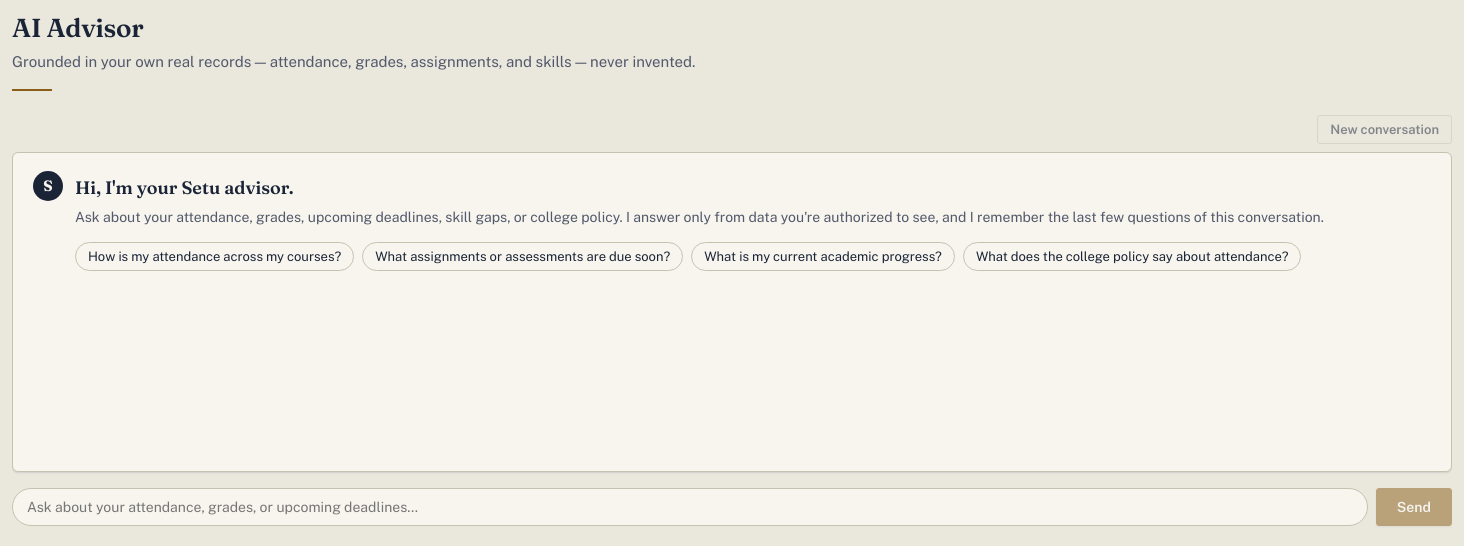
Test: AI advisor chat (spec section 13: forms and errors, live content) › tells the student in words, inside the conversation, when the advisor is unavailable, and lets them try again
Step 1. Type "Hello?" into the field named "Ask the AI Advisor" → (690, 507), box [12,488,1368,526]
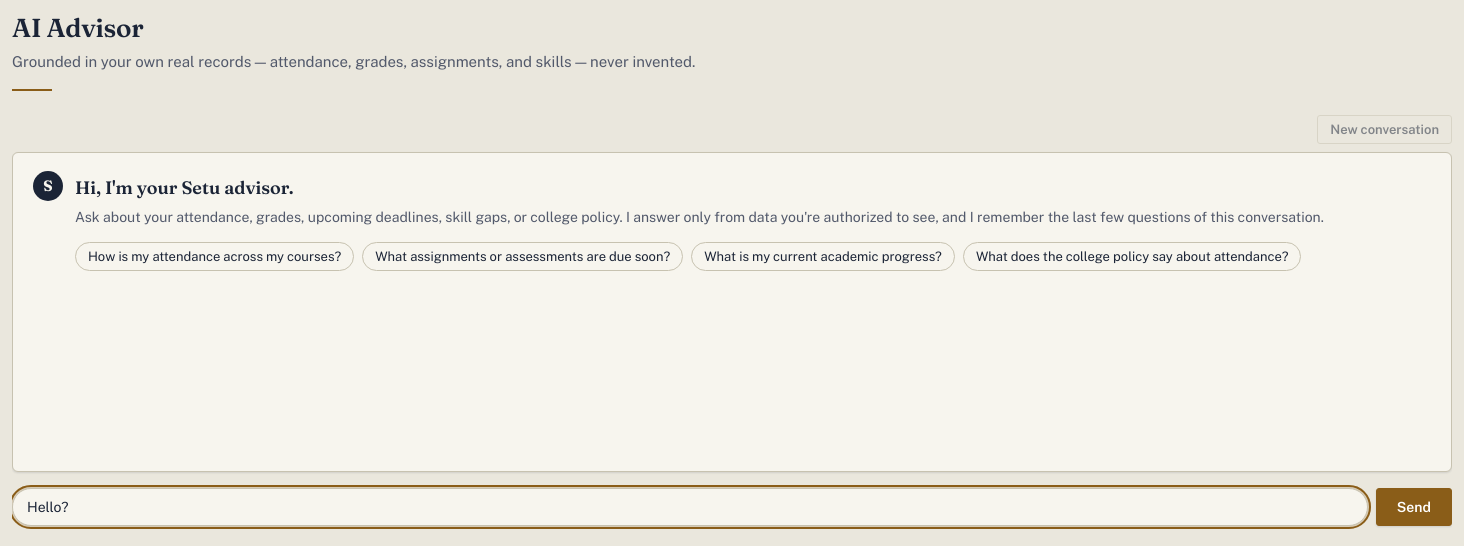
Step 2. Click the button "Send" → (1414, 507), box [1376,488,1452,526]
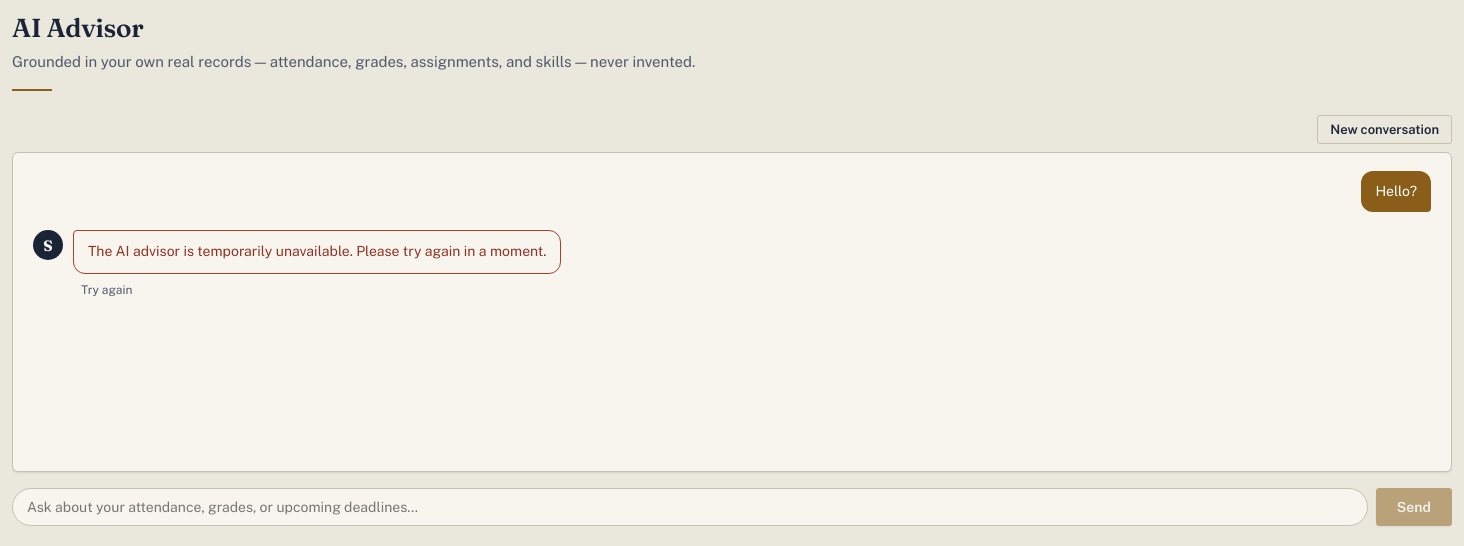
Expected: the field named "Ask the AI Advisor" is enabled, [12,488,1368,526]
Result: the element named "Conversation with the AI Advisor" shows "temporarily unavailable" at [88,243,546,259]
